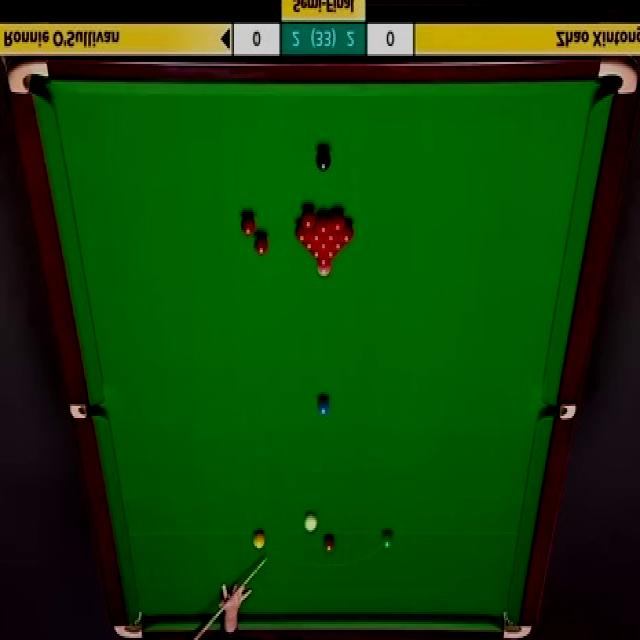black-ball: (314, 149, 330, 173)
blue-ball: (316, 398, 331, 415)
brown-ball: (323, 533, 335, 552)
green-ball: (380, 530, 395, 552)
pink-ball: (317, 262, 332, 276)
red-ball: (298, 207, 316, 230), (316, 213, 331, 235), (337, 222, 352, 244), (240, 214, 255, 236), (253, 235, 269, 255), (295, 221, 308, 243), (331, 210, 345, 230), (325, 221, 338, 242), (304, 239, 315, 251), (318, 238, 329, 250), (318, 253, 328, 265)
white-ball: (306, 509, 318, 533)
yellow-ball: (253, 530, 265, 550)
